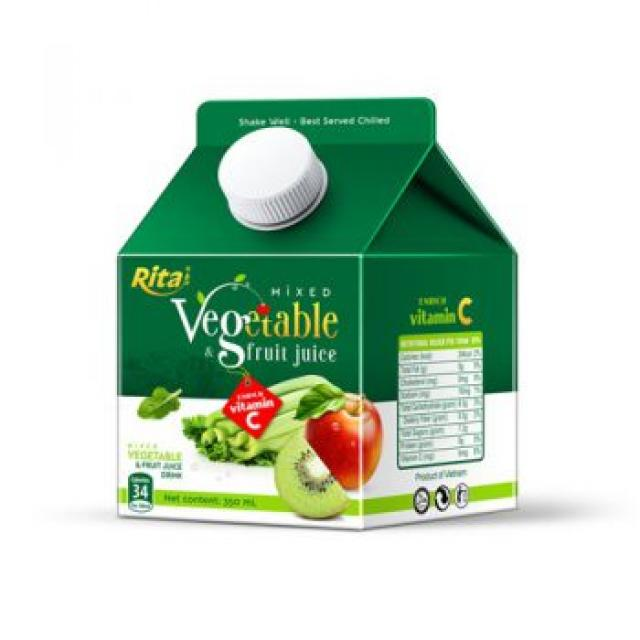non_white_jug: (90, 75, 540, 527)
